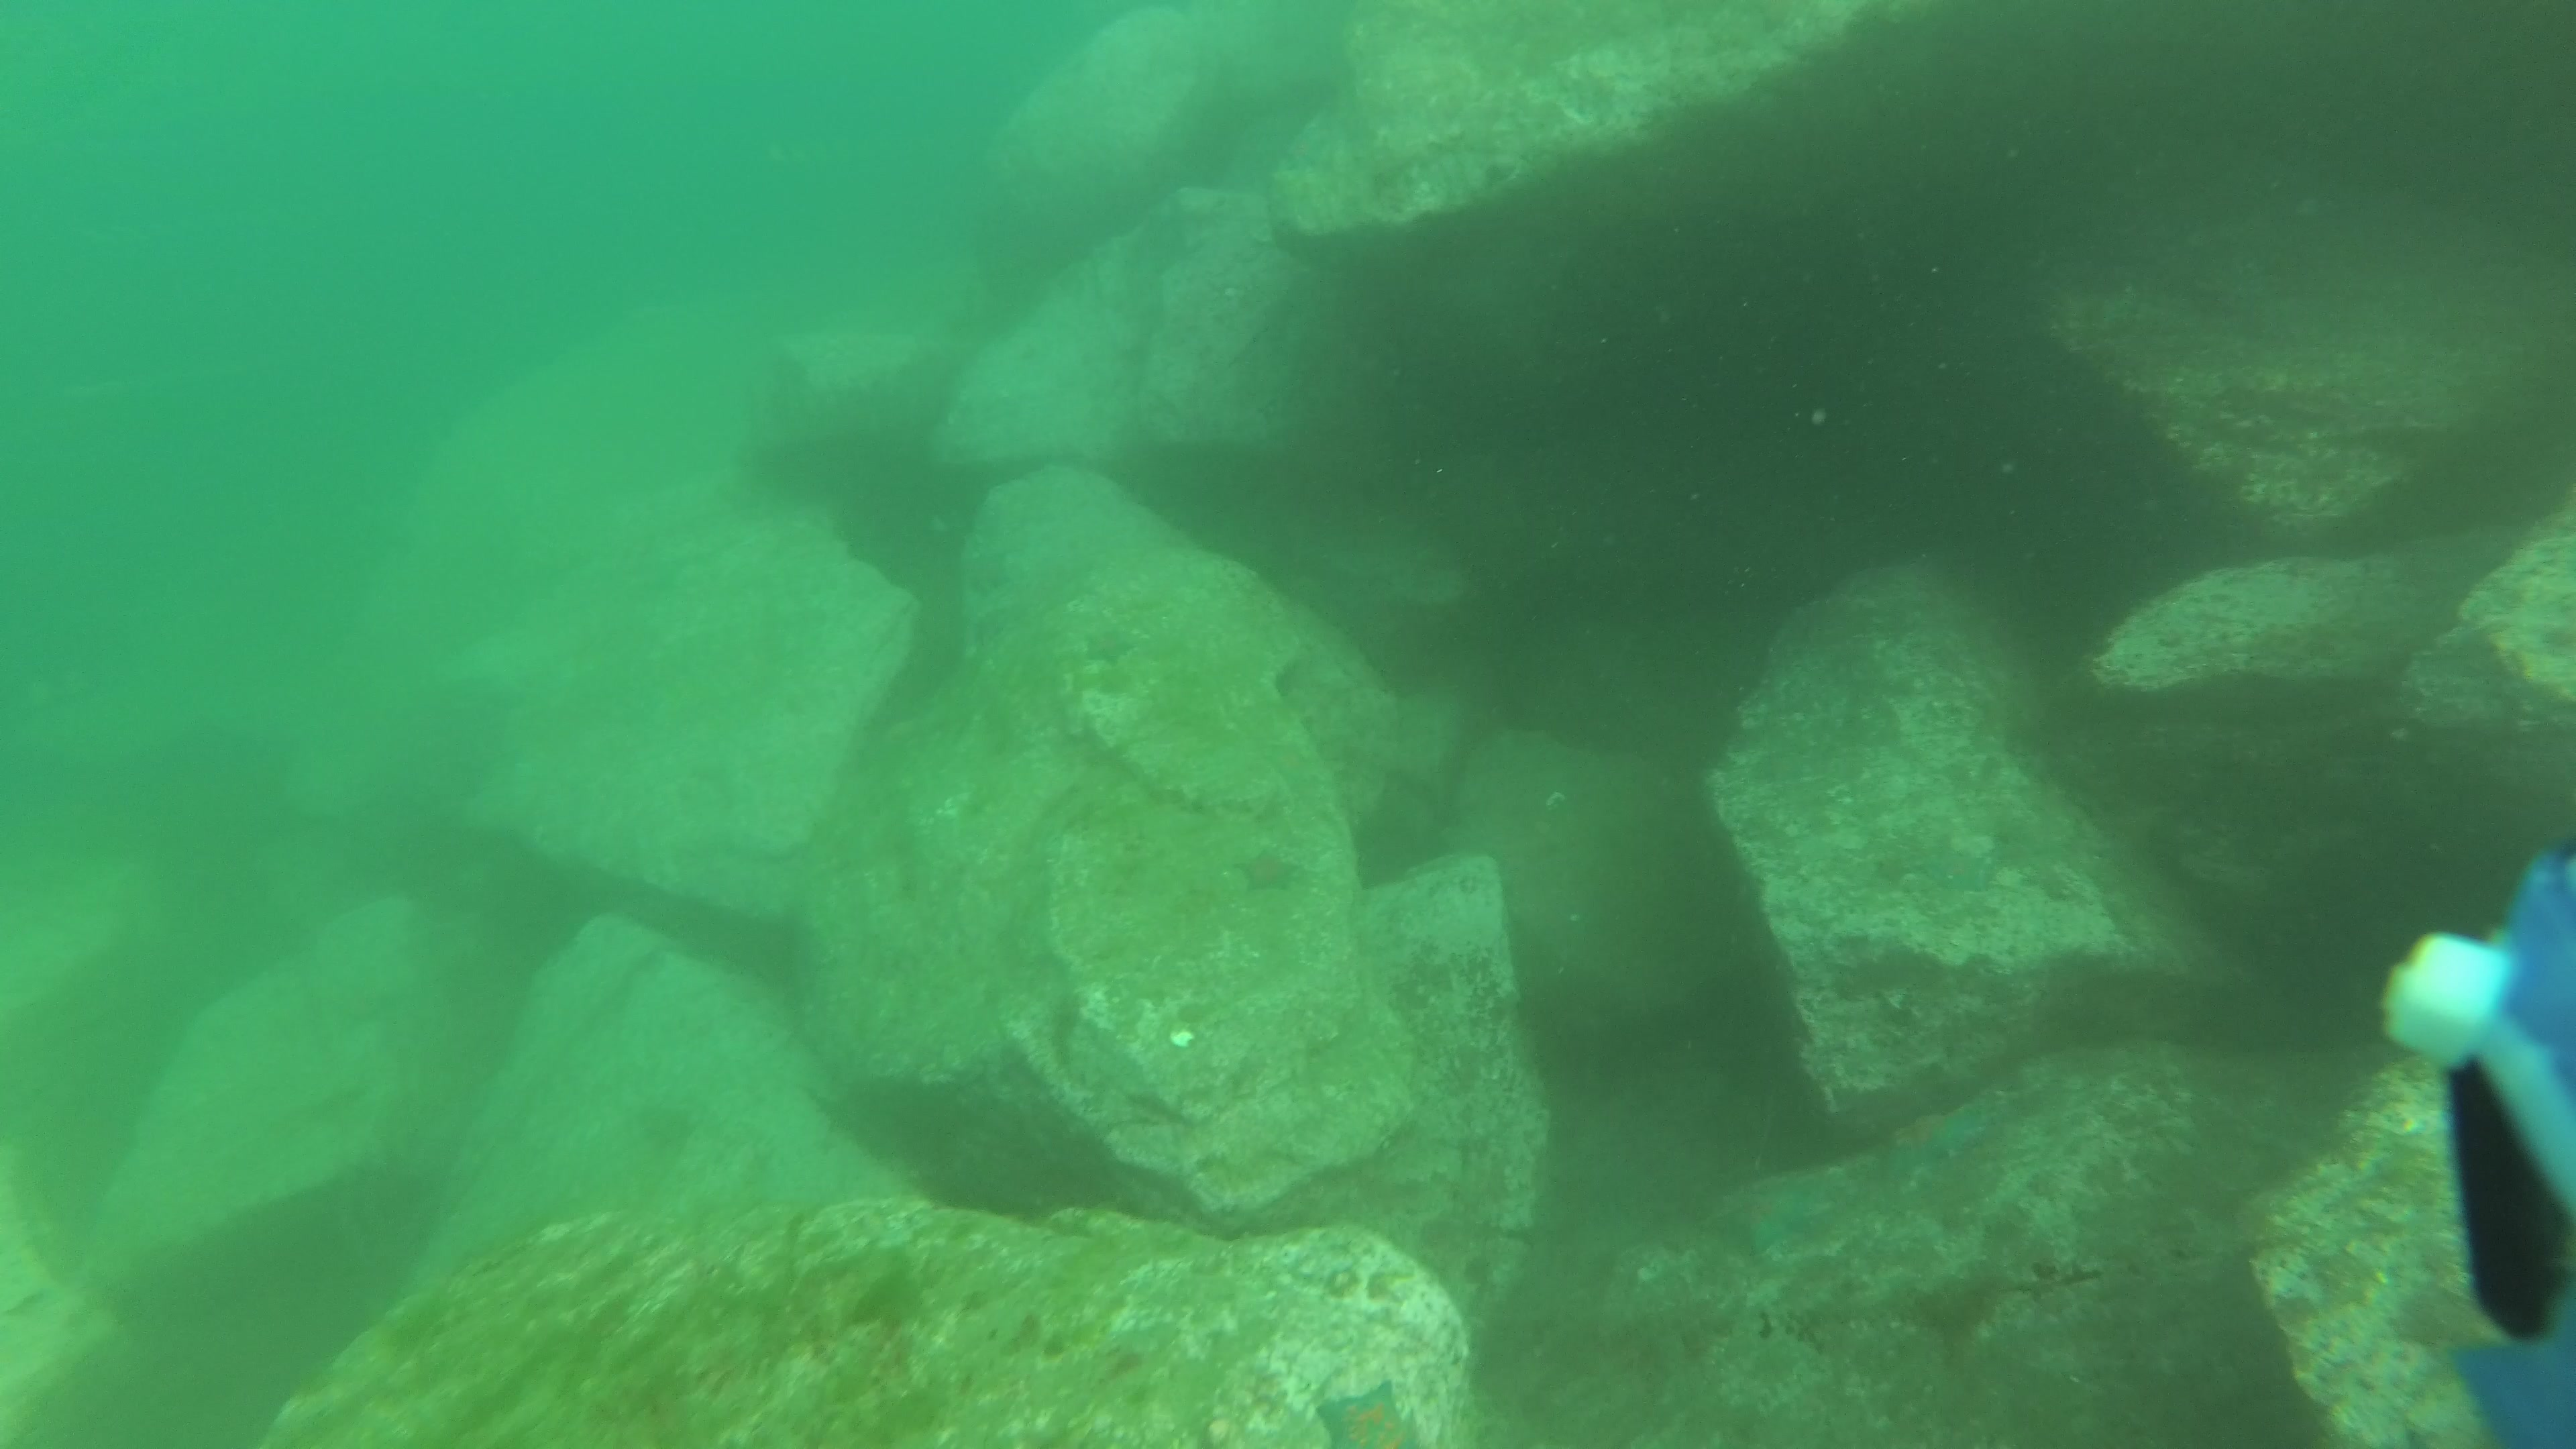starfish: (1868, 1099, 2005, 1189), (1311, 1378, 1419, 1449), (1233, 844, 1304, 895), (1083, 625, 1141, 669)
